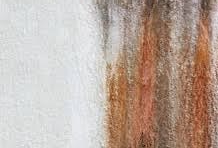Corrosion: (97, 1, 218, 148)
